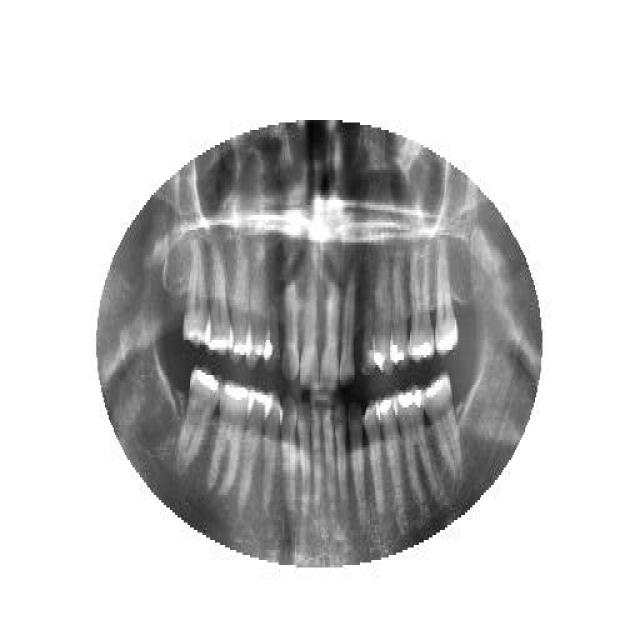Fillings: (208, 378, 252, 498), (393, 385, 438, 500), (178, 362, 220, 470), (422, 373, 462, 475), (408, 242, 432, 362), (435, 238, 459, 358), (378, 395, 402, 507), (390, 260, 409, 368)
